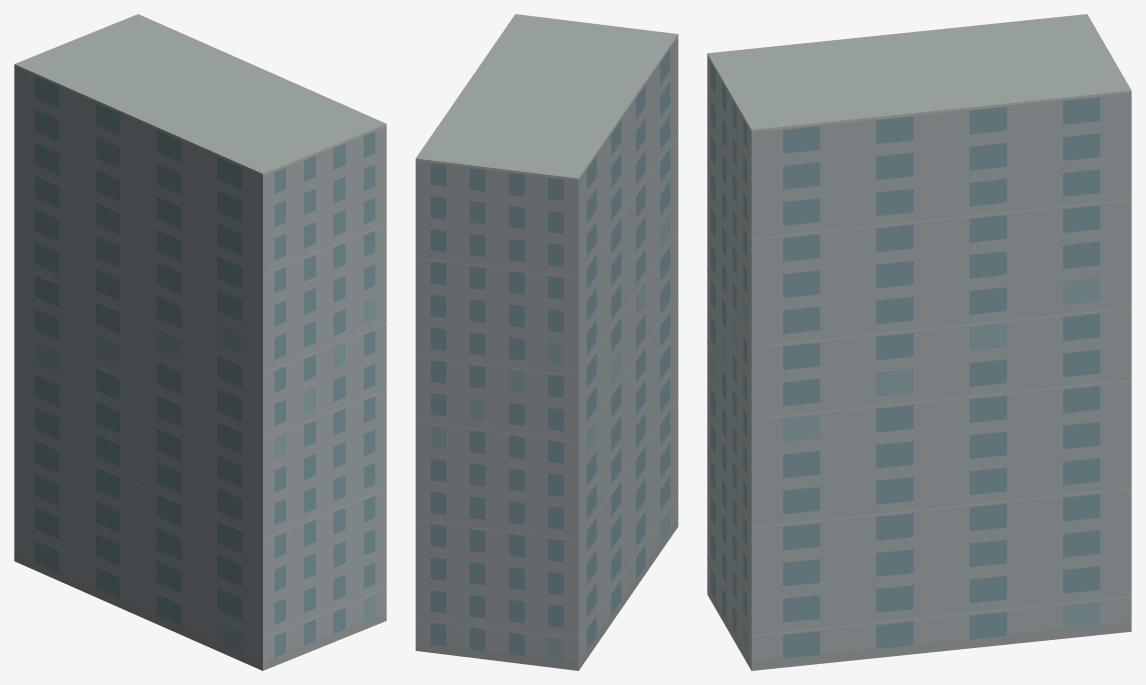
File: residential-9a541bc8-fe13-4021-b55b-40848815ba6c.glb
3 views of the same model, side by side, from view 1: azimuth 30°, elevation 25°; view 2: azimuth 150°, elevation 25°; view 3: azimuth 270°, elevation 25° (orthographic). The views are drawn at different scales.
Parts seen in each view (by area): view 1: residential-9a541bc8-fe13-4021-b55b-40848815ba6c.tmp; view 2: residential-9a541bc8-fe13-4021-b55b-40848815ba6c.tmp; view 3: residential-9a541bc8-fe13-4021-b55b-40848815ba6c.tmp.
Part boxes in pixels (x1,y1,x2,y2): residential-9a541bc8-fe13-4021-b55b-40848815ba6c.tmp: (14,14,386,670); residential-9a541bc8-fe13-4021-b55b-40848815ba6c.tmp: (415,14,678,670); residential-9a541bc8-fe13-4021-b55b-40848815ba6c.tmp: (707,14,1131,670).
Bounding box in the file's own units: 26.21 × 57 × 40.55.
